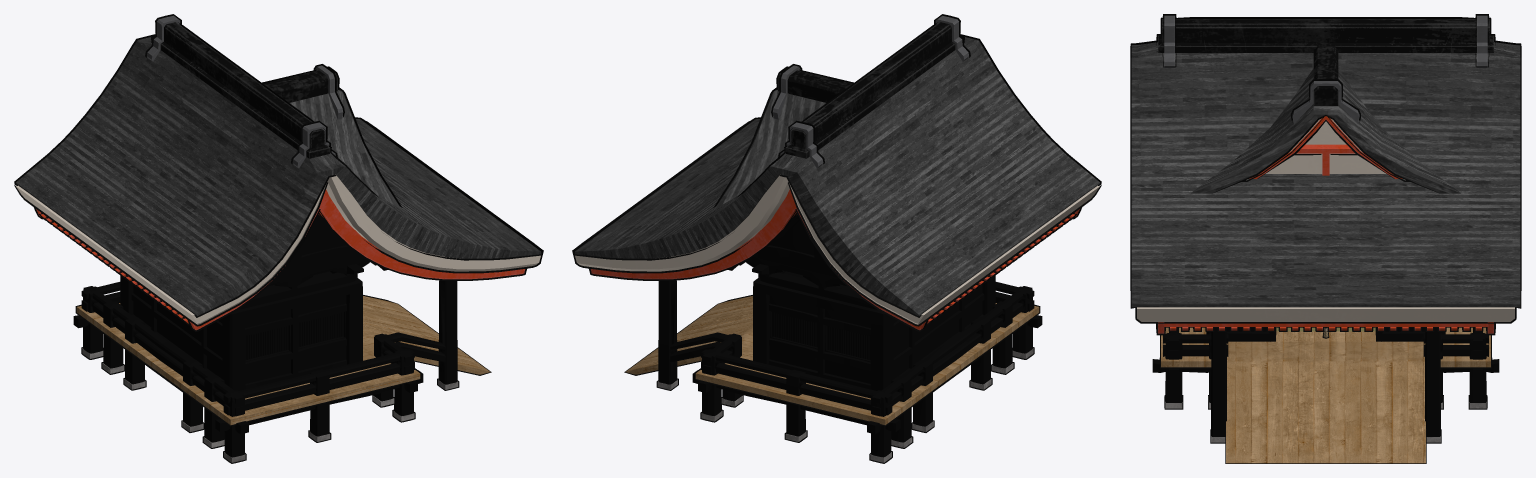
File: Honden.fbx
3 renders of one model, left to right at view 1: azimuth 30°, elevation 25°; view 2: azimuth 150°, elevation 25°; view 3: azimuth 270°, elevation 25°, orthographic. The views are drawn at different scales.
Parts seen in each view (by area): view 1: yane, base, waku; view 2: yane, base, waku; view 3: yane, waku, base.
Part boxes in pixels (x1,y1,x2,y2): yane: (14, 14, 543, 331); base: (73, 216, 457, 457); waku: (75, 295, 491, 463); yane: (572, 14, 1101, 331); base: (658, 216, 1042, 457); waku: (624, 295, 1040, 463); yane: (1130, 14, 1521, 335); waku: (1159, 327, 1492, 463); base: (1152, 327, 1499, 436).
Bounding box in the file's own units: 667 × 573 × 598.
4 materials, 3 textured.
